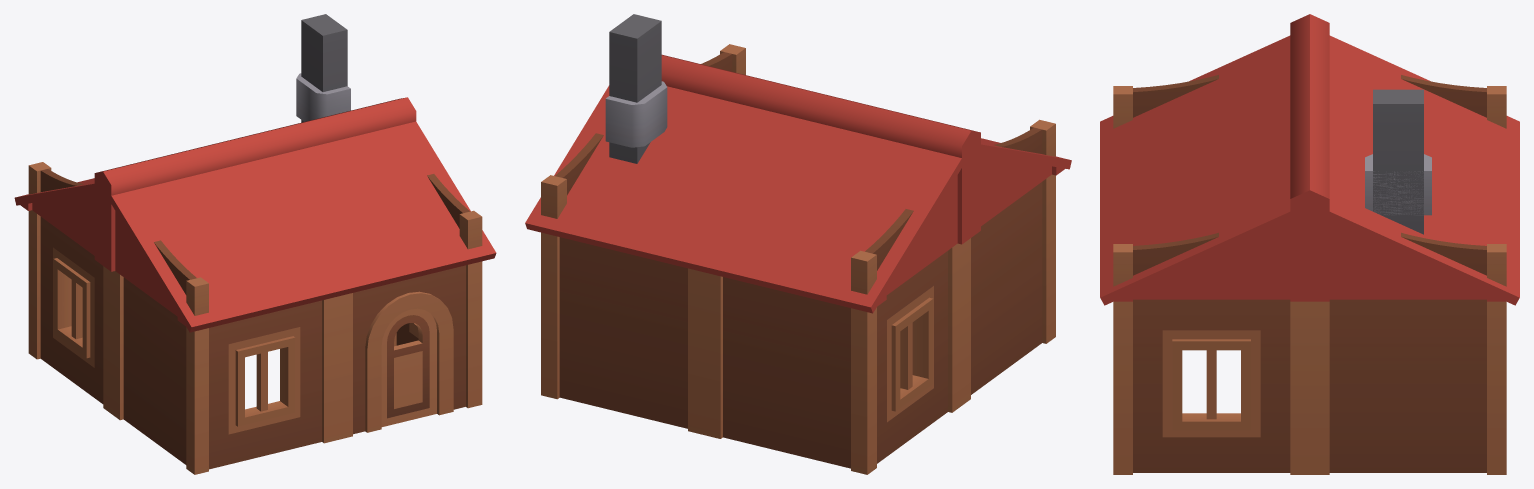
File: cabane-peche-1.glb
3 renders of one model, left to right at view 1: azimuth 30°, elevation 25°; view 2: azimuth 150°, elevation 25°; view 3: azimuth 270°, elevation 25°, orthographic. The views are drawn at different scales.
Parts seen in each view (by area): view 1: wall-wood-window-shutters, roof; view 2: wall-wood-window-shutters, roof; view 3: wall-wood-window-shutters, roof.
Boxes of the visible parts, x1=… form: wall-wood-window-shutters: x1=28, y1=14, x2=482, y2=474; roof: x1=14, y1=97, x2=496, y2=332; wall-wood-window-shutters: x1=541, y1=14, x2=1055, y2=474; roof: x1=525, y1=54, x2=1071, y2=313; wall-wood-window-shutters: x1=1113, y1=75, x2=1506, y2=474; roof: x1=1100, y1=14, x2=1519, y2=305.
Bounding box in the file's own units: 6.36 × 6 × 6.4.
Materials: 2 (1 with a texture image).
